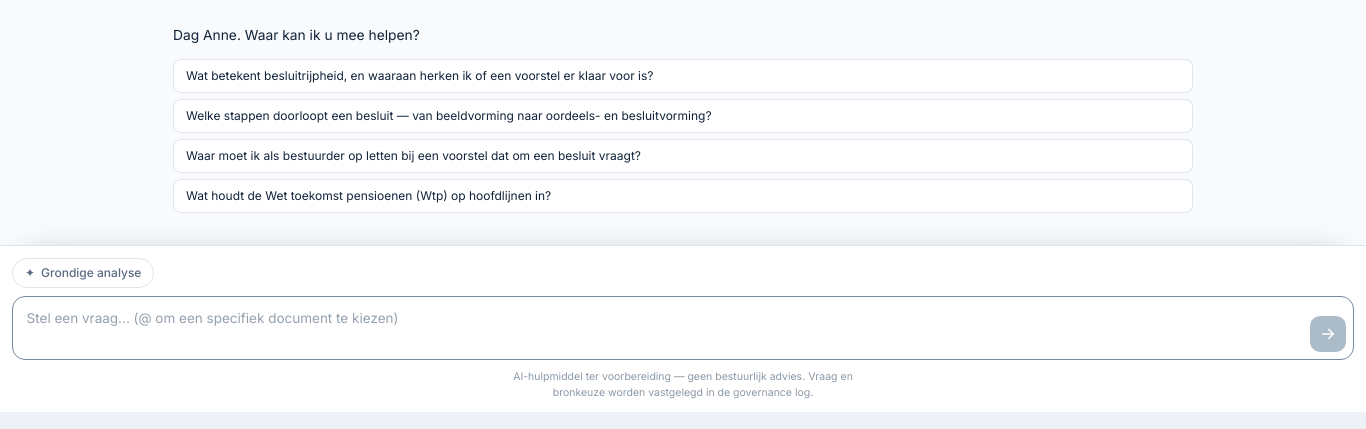
it: AssistentClient — SSE-verwerking › toont bij een verduidelijking de chips en laat 'done' de bubbel ongemoeid
Type "Wat is onze dekkingsgraad?" into the text box with placeholder "Stel een vraag... (@ om een specifiek document te kiezen)" at (683, 328), box [13,297,1353,360]
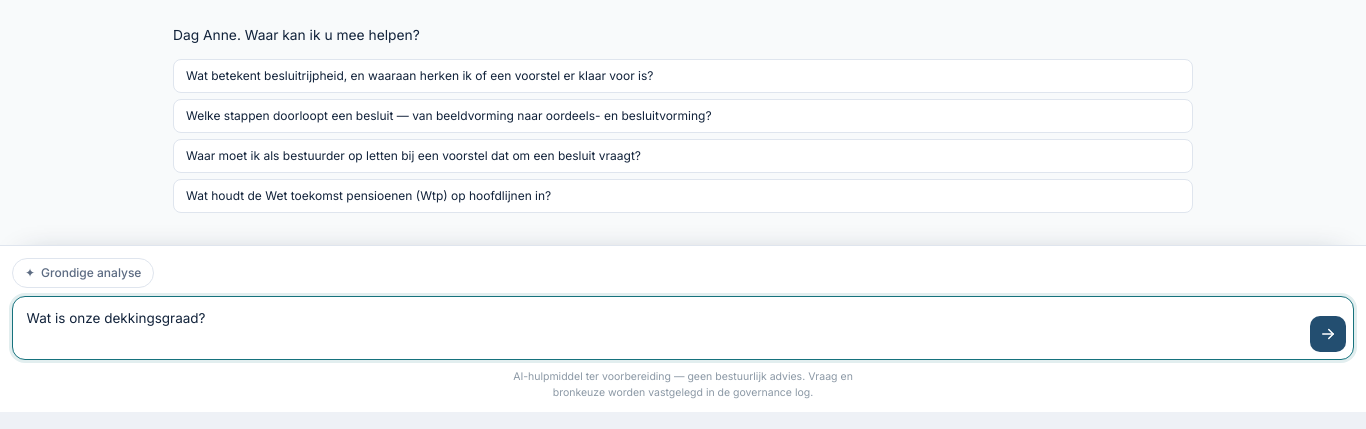
Click the button named "Vraag versturen" at (1328, 334), box [1310,316,1346,352]
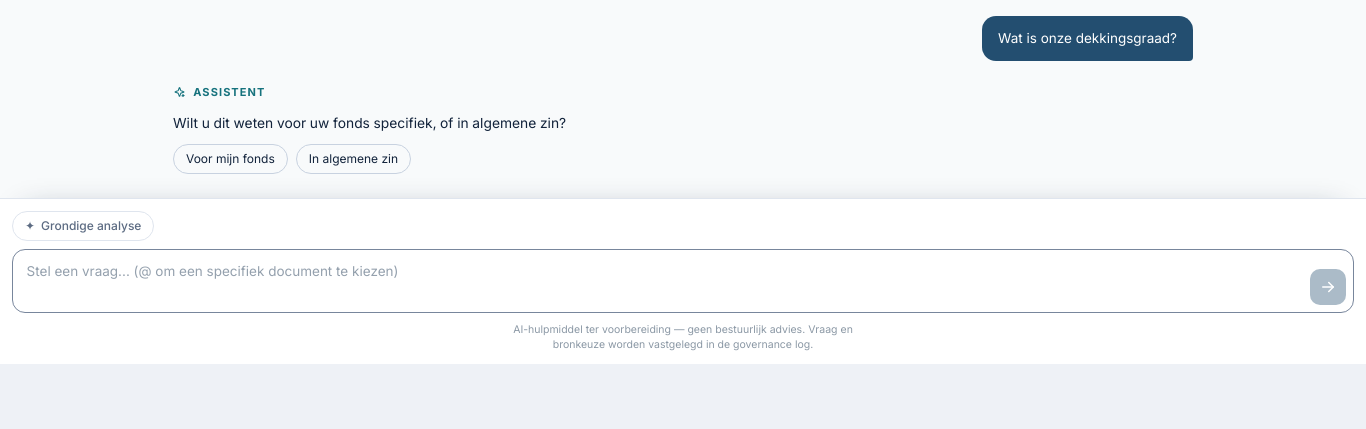
Check: the button "Voor mijn fonds" is shown, box [173,144,288,174]
Check: the button "In algemene zin" is shown, box [296,144,411,174]
Check: the text "Wilt u dit weten voor uw fonds specifiek" is shown, box [173,115,566,131]
